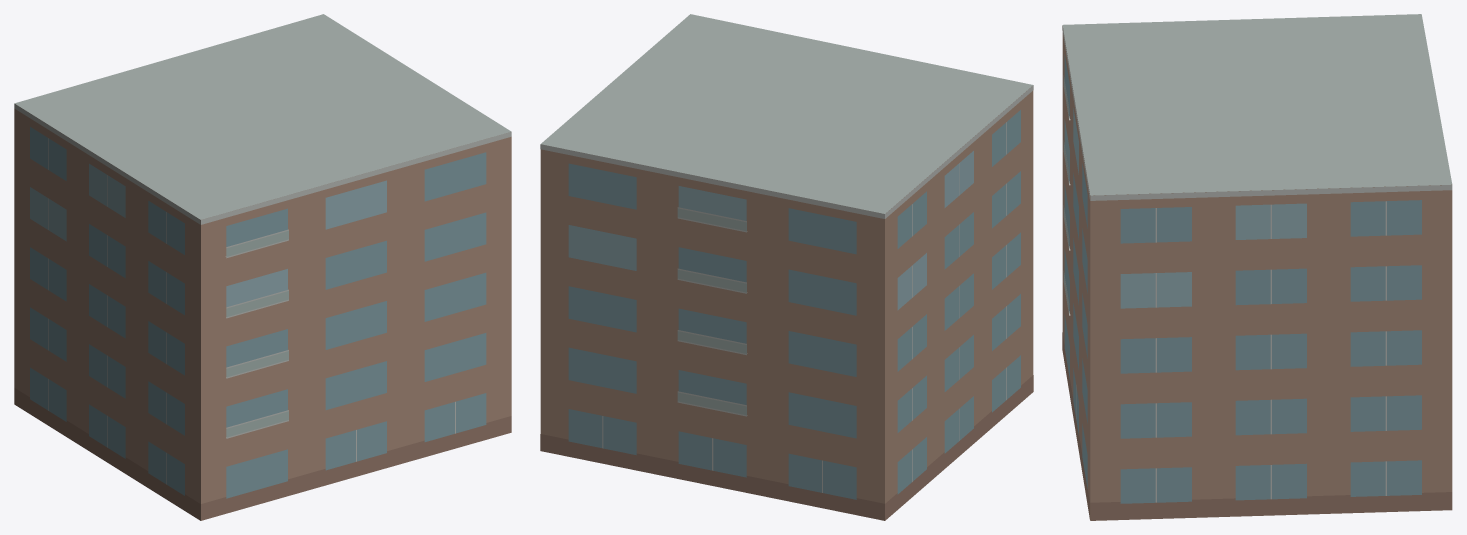
Rendered from survey-upis-32728396.glb.
3 views of the same model, side by side, from view 1: azimuth 30°, elevation 25°; view 2: azimuth 150°, elevation 25°; view 3: azimuth 270°, elevation 25° (orthographic). The views are drawn at different scales.
Parts seen in each view (by area): view 1: survey-upis-32728396.tmp; view 2: survey-upis-32728396.tmp; view 3: survey-upis-32728396.tmp.
Boxes of the visible parts, box(x1,y1,x2,y2) form: survey-upis-32728396.tmp: box(14, 14, 511, 520); survey-upis-32728396.tmp: box(540, 14, 1033, 520); survey-upis-32728396.tmp: box(1062, 14, 1452, 520).
Bounding box in the file's own units: 17.48 × 14.6 × 15.87.
